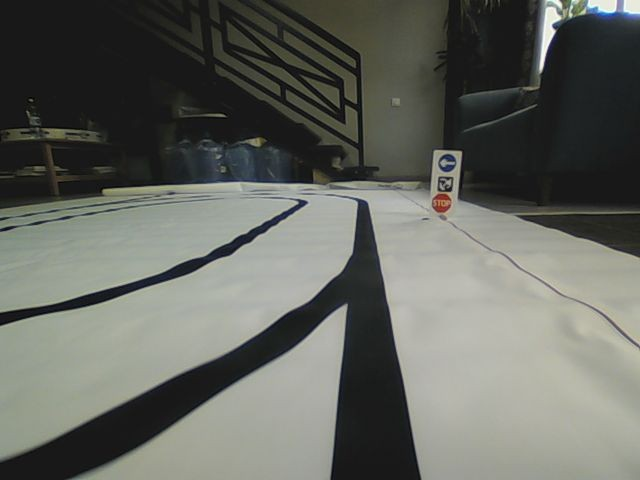Stop: (431, 194, 453, 215)
